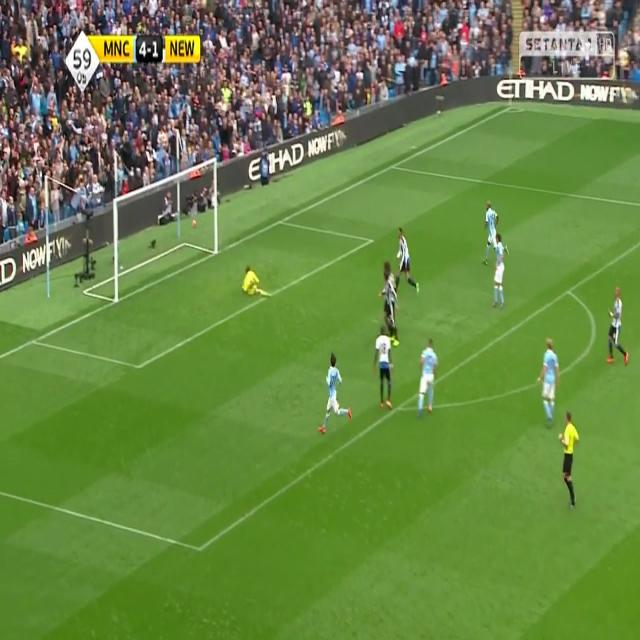Ball: (190, 214, 198, 234)
Goalkeeper: (238, 264, 272, 300)
Player: (318, 349, 353, 435), (535, 338, 563, 430), (603, 283, 632, 371), (378, 262, 402, 351), (371, 323, 394, 411), (415, 337, 440, 417), (481, 198, 509, 265), (394, 226, 421, 294), (491, 234, 506, 310)
Referee: (557, 410, 582, 509)
